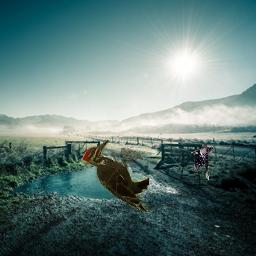Woodpecker: (81, 140, 149, 212), (191, 144, 214, 180)
